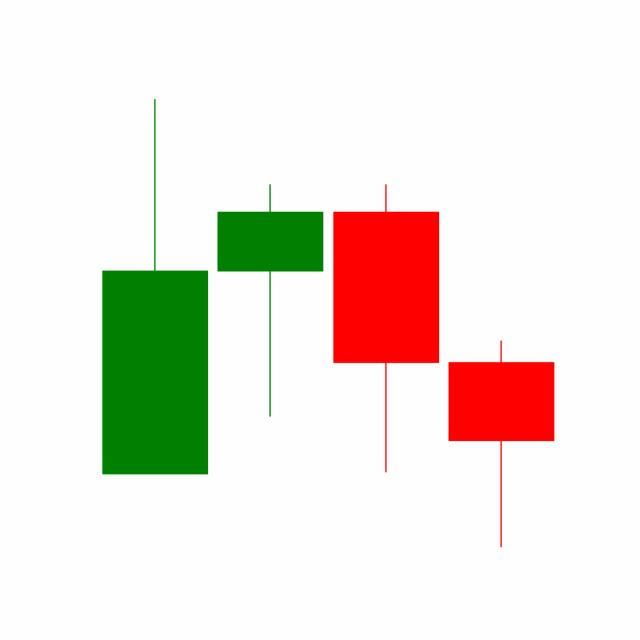Hammer: (443, 337, 559, 550)
